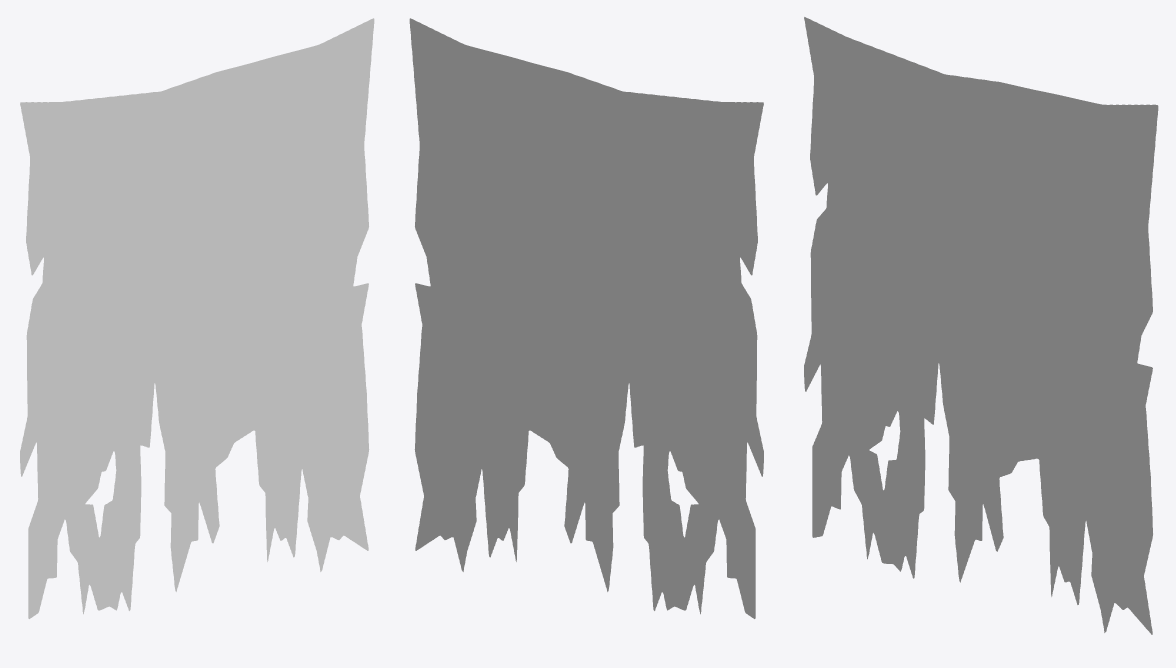
File: SM_Prop_Flag_05.fbx
The picture shows the model from 3 angles, left to right: view 1: azimuth 30°, elevation 25°; view 2: azimuth 150°, elevation 25°; view 3: azimuth 330°, elevation 25°; orthographic projection.
Parts seen in each view (by area): view 1: SM_Prop_Flag_05; view 2: SM_Prop_Flag_05; view 3: SM_Prop_Flag_05.
Part boxes in pixels (x1=…): SM_Prop_Flag_05: x1=20, y1=18, x2=374, y2=618; SM_Prop_Flag_05: x1=409, y1=18, x2=763, y2=618; SM_Prop_Flag_05: x1=804, y1=17, x2=1158, y2=634.
Size of the model in its own units: 142 by 206 by 0.
